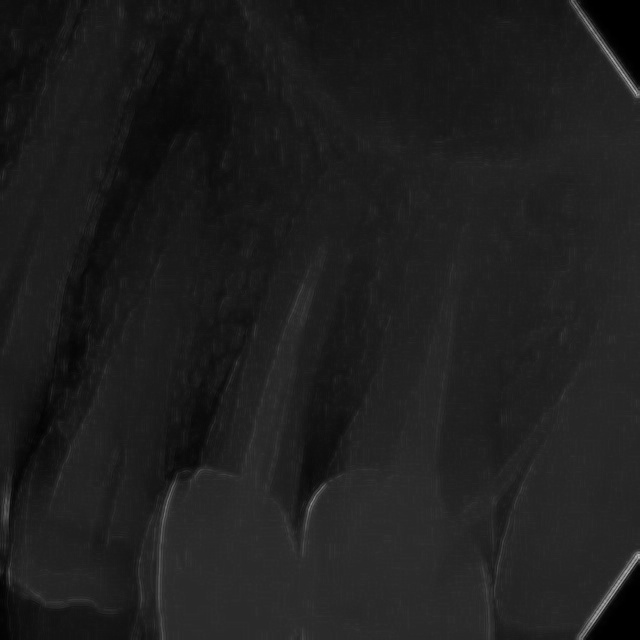Class 0- No endodontic treatment: (324, 182, 599, 640)
Class 1- complete endodontic treatment: (125, 83, 378, 640)
